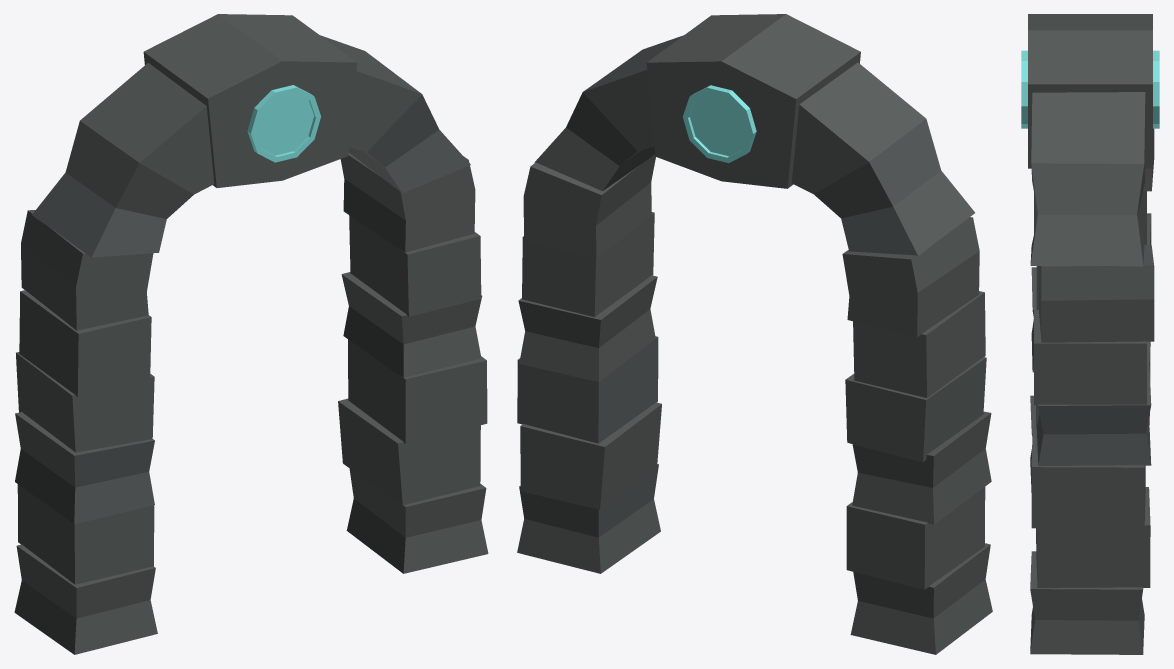
Rendered from Archway_4_Gray.fbx.
3 views of the same model, side by side, from view 1: azimuth 30°, elevation 25°; view 2: azimuth 150°, elevation 25°; view 3: azimuth 270°, elevation 25° (orthographic). The views are drawn at different scales.
Visible parts, largest first — view 1: Archway_4_Gray_Part_1, Archway_4_Gray_Part_2; view 2: Archway_4_Gray_Part_1, Archway_4_Gray_Part_2; view 3: Archway_4_Gray_Part_1, Archway_4_Gray_Part_2.
Part boxes in pixels (x1,y1,x2,y2): Archway_4_Gray_Part_1: (14,14,488,654); Archway_4_Gray_Part_2: (247,85,320,162); Archway_4_Gray_Part_1: (517,14,992,654); Archway_4_Gray_Part_2: (683,85,756,163); Archway_4_Gray_Part_1: (1028,14,1154,654); Archway_4_Gray_Part_2: (1021,50,1159,128).
Bounding box in the file's own units: 570 × 710 × 169.
